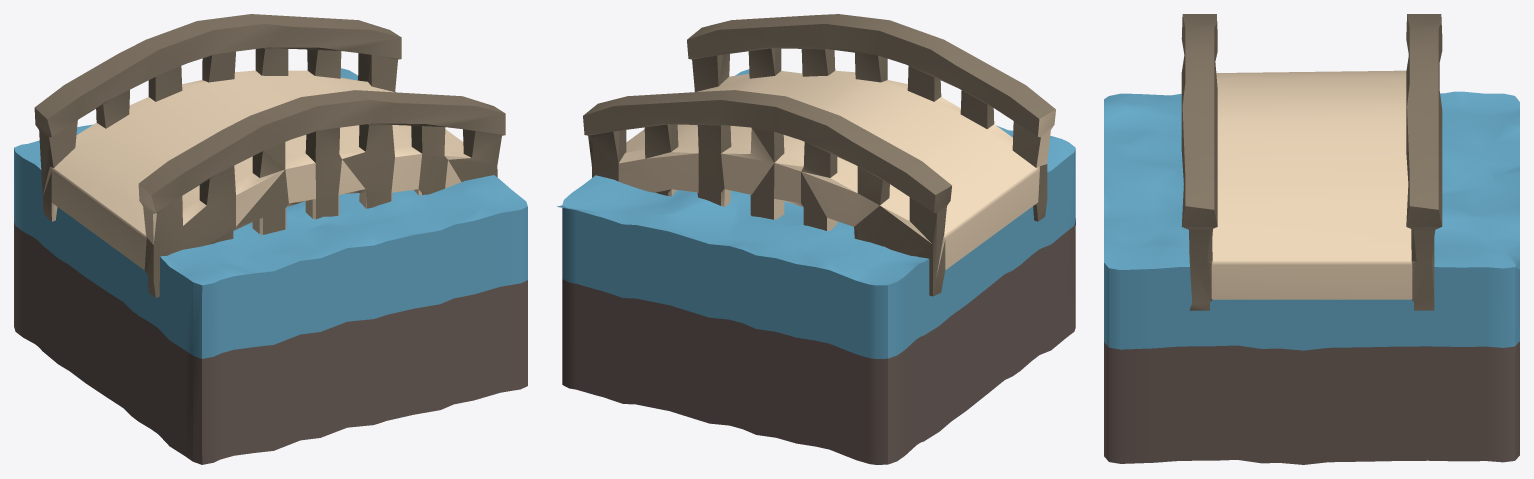
File: bridge_map1.fbx
3 views of the same model, side by side, from view 1: azimuth 30°, elevation 25°; view 2: azimuth 150°, elevation 25°; view 3: azimuth 270°, elevation 25° (orthographic). The views are drawn at different scales.
Visible parts, largest first — view 1: water, pCube13; view 2: water, pCube13; view 3: water, pCube13.
Boxes of the visible parts, x1,y1,x2,y2 form: water: (14, 68, 527, 464); pCube13: (34, 14, 505, 297); water: (557, 69, 1075, 464); pCube13: (583, 14, 1055, 296); water: (1104, 91, 1519, 464); pCube13: (1181, 14, 1442, 310).
Bounding box in the file's own units: 21.09 × 16.86 × 19.76.
